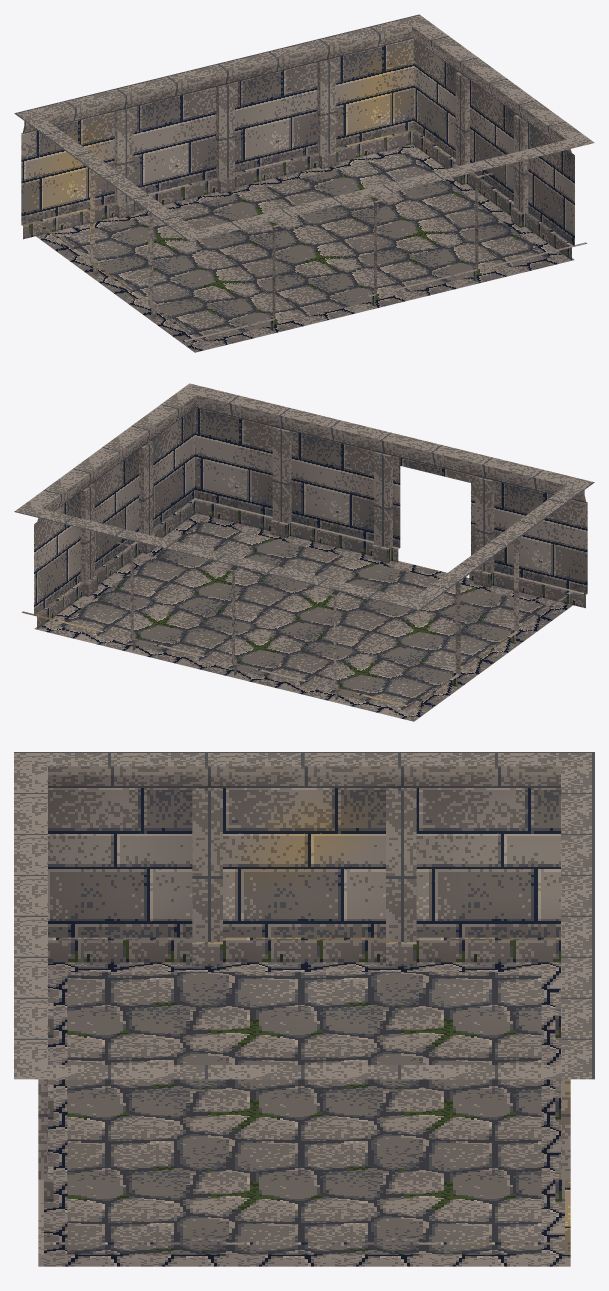
Rendered from dgn.room__large.glb.
3 views of the same model, one above another, from view 1: azimuth 30°, elevation 25°; view 2: azimuth 150°, elevation 25°; view 3: azimuth 270°, elevation 25° (orthographic). The views are drawn at different scales.
Parts seen in each view (by area): view 1: kit_shell_walls, kit_shell_floor; view 2: kit_shell_walls, kit_shell_floor; view 3: kit_shell_floor, kit_shell_walls.
Boxes of the visible parts, x1=… form: kit_shell_walls: x1=14, y1=14, x2=594, y2=342; kit_shell_floor: x1=36, y1=144, x2=574, y2=352; kit_shell_walls: x1=14, y1=383, x2=594, y2=711; kit_shell_floor: x1=34, y1=513, x2=572, y2=721; kit_shell_floor: x1=38, y1=962, x2=570, y2=1266; kit_shell_walls: x1=14, y1=752, x2=594, y2=1254.
Size of the model in its own units: 16 by 4.5 by 12.
5 materials, 5 textured.
